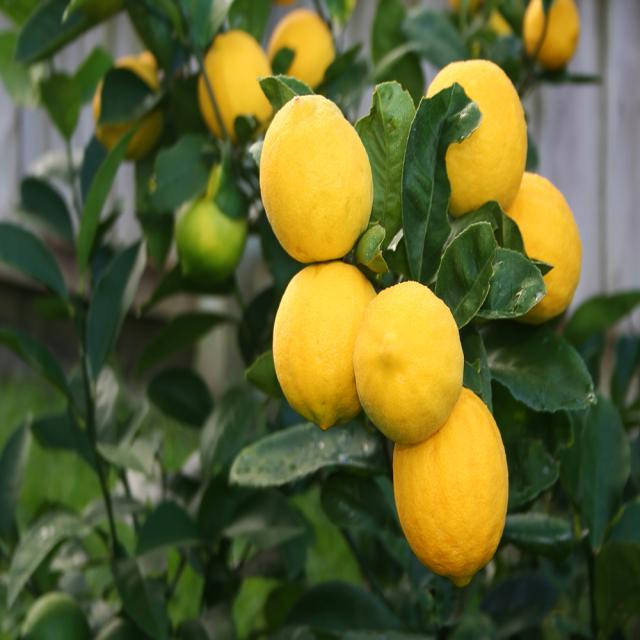lemon: (385, 38, 552, 263), (370, 370, 517, 590), (336, 253, 486, 461), (247, 67, 390, 275), (245, 244, 400, 428), (482, 132, 600, 363), (188, 13, 296, 185)
